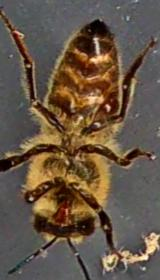varroa_mite: (90, 84, 126, 120)
